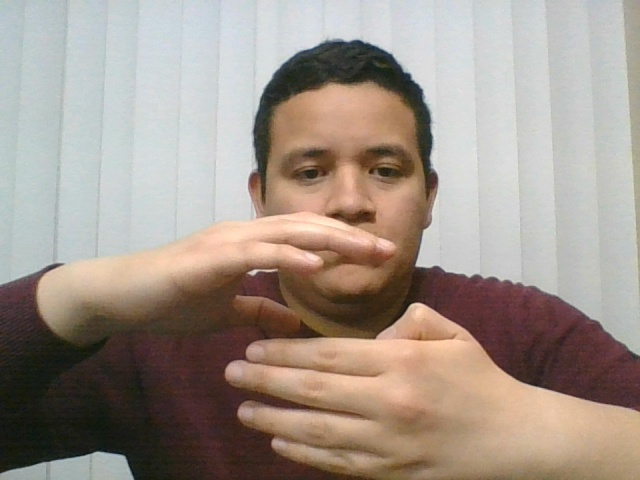To Study: (48, 207, 557, 476)
